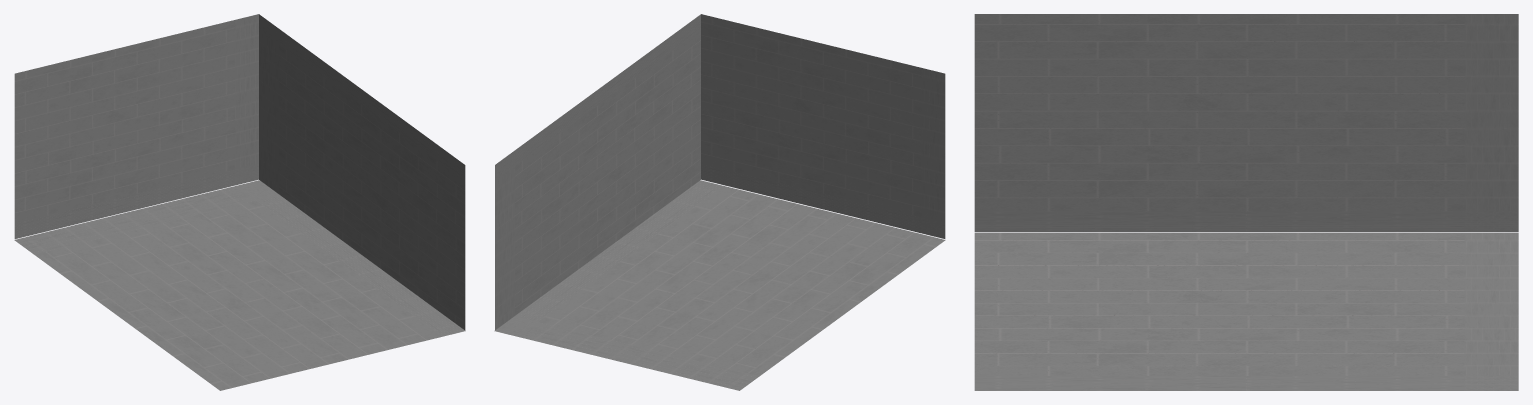
The model's file is throneRoom.glb.
3 views of the same model, side by side, from view 1: azimuth 30°, elevation 25°; view 2: azimuth 150°, elevation 25°; view 3: azimuth 270°, elevation 25° (orthographic). The views are drawn at different scales.
Parts seen in each view (by area): view 1: group3; view 2: group3; view 3: group3.
Part boxes in pixels (x1,y1,x2,y2): group3: [14, 14, 465, 390]; group3: [494, 14, 945, 390]; group3: [974, 14, 1518, 390].
Size of the model in its own units: 14.06 by 9.09 by 20.46.
Materials: 1 (1 with a texture image).
